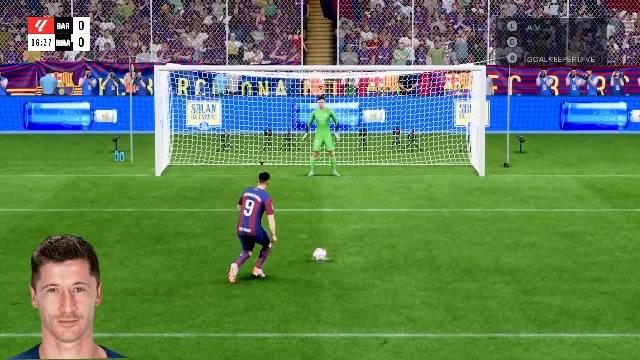bottom-left: (159, 130, 275, 176)
bottom-right: (374, 129, 478, 175)
center-down: (278, 132, 372, 176)
center-up: (278, 74, 369, 127)
football: (312, 248, 328, 262)
goalkeeper: (297, 98, 353, 178)
player: (219, 174, 303, 286)
top-left: (158, 72, 274, 128)
top-right: (373, 72, 481, 126)
